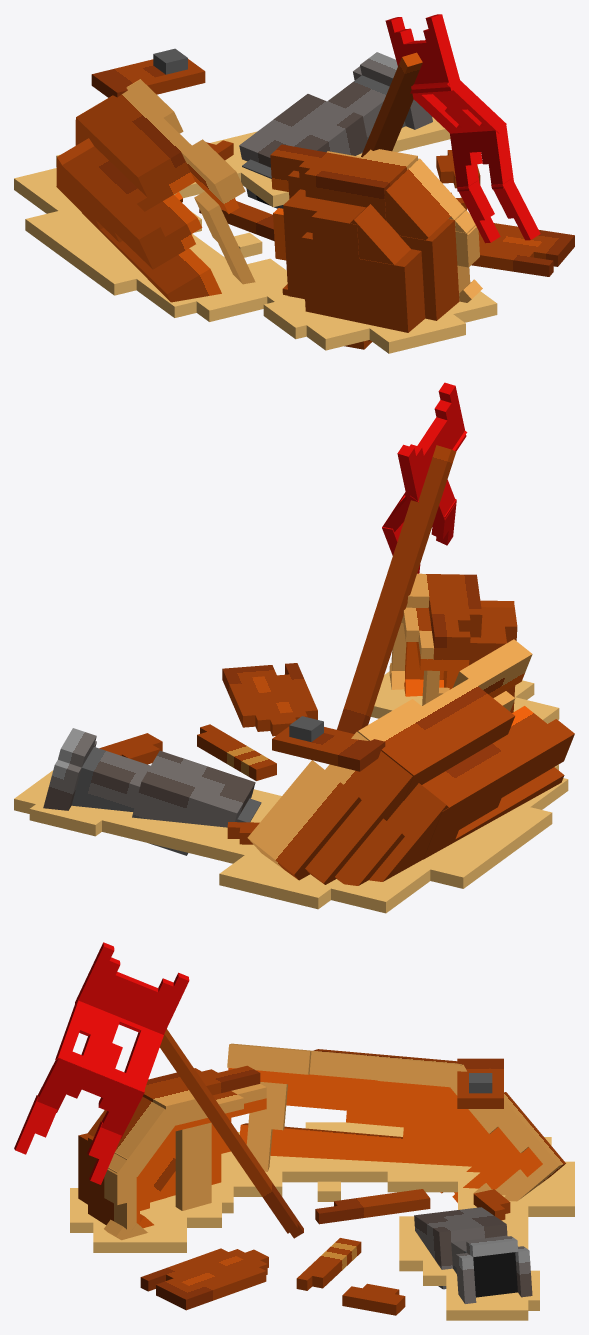
File: item_3x3_brokenskiff.gltf
The picture shows the model from 3 angles, top to bottom: view 1: azimuth 30°, elevation 25°; view 2: azimuth 150°, elevation 25°; view 3: azimuth 270°, elevation 25°; orthographic projection. The views are drawn at different scales.
Parts seen in each view (by area): view 1: body02-Local, ship_hull-Local, sand1-Local, canon_port_01-Local, ship_hull_stern-Local, sand2-Local, oar_starboard-02-Local, flag_main_01-Local, pieces-1-Local, flag_main_02-Local, flag_main_03-Local, mast_main-Local (+4 smaller); view 2: ship_hull-Local, sand1-Local, ship_bow-Local, canon_port_01-Local, body02-Local, mast_main-Local, oar_starboard-02-Local, pieces-1-Local, flag_main_01-Local, oar_starboard-Local, sand2-Local, wood2-Local (+2 smaller); view 3: ship_hull-Local, sand1-Local, body02-Local, ship_bow-Local, canon_port_01-Local, sand2-Local, flag_main_02-Local, oar_starboard-02-Local, flag_main_01-Local, ship_hull_stern-Local, mast_main-Local, flag_main_03-Local (+6 smaller).
Part boxes in pixels (box(x1,y1,x2,y2)): body02-Local: box(270, 144, 479, 349); ship_hull-Local: box(58, 79, 255, 302); sand1-Local: box(14, 117, 450, 321); canon_port_01-Local: box(239, 52, 432, 208); ship_hull_stern-Local: box(350, 158, 482, 341); sand2-Local: box(256, 280, 497, 353); oar_starboard-02-Local: box(471, 223, 574, 276); flag_main_01-Local: box(385, 14, 461, 93); pieces-1-Local: box(91, 48, 205, 97); flag_main_02-Local: box(411, 80, 506, 133); flag_main_03-Local: box(449, 125, 513, 191); mast_main-Local: box(361, 52, 422, 157); ship_hull-Local: box(357, 639, 574, 859); sand1-Local: box(14, 764, 568, 913); ship_bow-Local: box(247, 732, 448, 885); canon_port_01-Local: box(43, 728, 261, 855); body02-Local: box(391, 573, 517, 712); mast_main-Local: box(337, 445, 456, 733); oar_starboard-02-Local: box(222, 663, 317, 736); pieces-1-Local: box(272, 716, 385, 771); flag_main_01-Local: box(397, 382, 466, 500); oar_starboard-Local: box(197, 724, 276, 780); sand2-Local: box(371, 671, 559, 723); wood2-Local: box(99, 733, 162, 764); ship_hull-Local: box(227, 1043, 462, 1171); sand1-Local: box(220, 1122, 574, 1320); body02-Local: box(78, 1065, 266, 1232); ship_bow-Local: box(404, 1064, 565, 1202); canon_port_01-Local: box(414, 1207, 532, 1303); sand2-Local: box(70, 1168, 233, 1252); flag_main_02-Local: box(55, 1000, 163, 1091); oar_starboard-02-Local: box(140, 1248, 268, 1310); flag_main_01-Local: box(75, 942, 189, 1034); ship_hull_stern-Local: box(87, 1097, 178, 1240); mast_main-Local: box(159, 1029, 303, 1238); flag_main_03-Local: box(37, 1058, 144, 1138).
Size of the model in its own units: 38 by 28.84 by 47.94.
18 materials, 18 textured.
